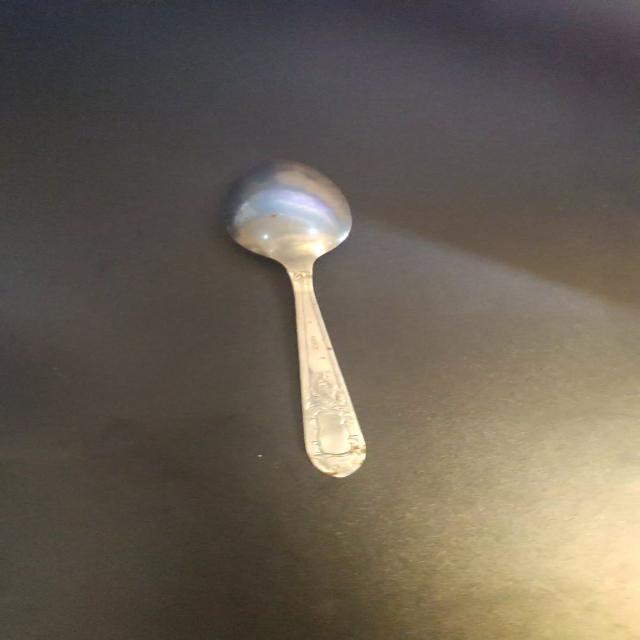plastic utensil: (229, 161, 364, 478)
